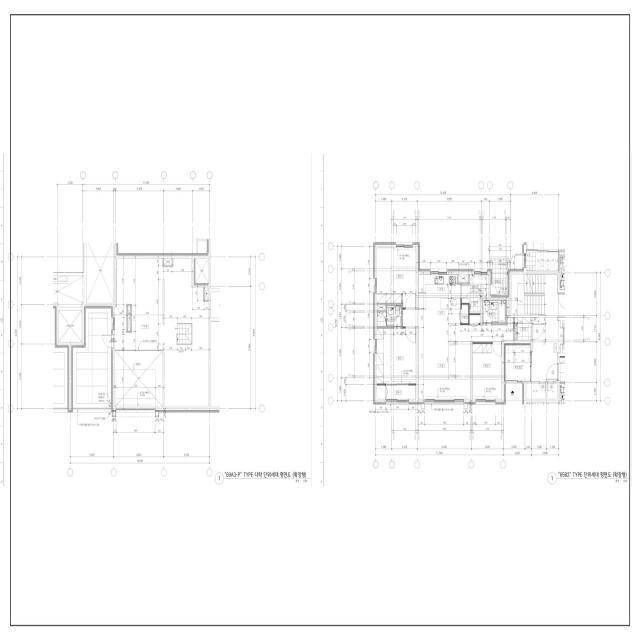space_balconi: (377, 248, 416, 303), (461, 274, 489, 313), (491, 258, 509, 296), (386, 384, 416, 399)
space_bedroom: (377, 327, 416, 384), (473, 343, 502, 399), (393, 270, 416, 308)
space_elevator: (59, 310, 82, 342), (563, 320, 565, 353)
space_elevator_hall: (531, 314, 565, 382)
space_front: (504, 343, 531, 382), (515, 317, 532, 340)
space_kitchen: (418, 274, 460, 323)
space_living_room: (403, 308, 513, 399), (469, 314, 480, 324)
space_other: (165, 259, 209, 407), (71, 306, 113, 410), (115, 259, 163, 350), (194, 259, 209, 285), (526, 384, 546, 399), (548, 384, 558, 399), (461, 305, 468, 323), (377, 384, 385, 399), (458, 274, 468, 283), (128, 306, 131, 331), (164, 259, 172, 265), (377, 305, 386, 310), (503, 287, 508, 295), (205, 287, 208, 300), (507, 300, 509, 316)
space_staircase: (512, 274, 565, 314), (177, 324, 192, 344)
space_toilet: (482, 300, 506, 323), (377, 305, 402, 327)
